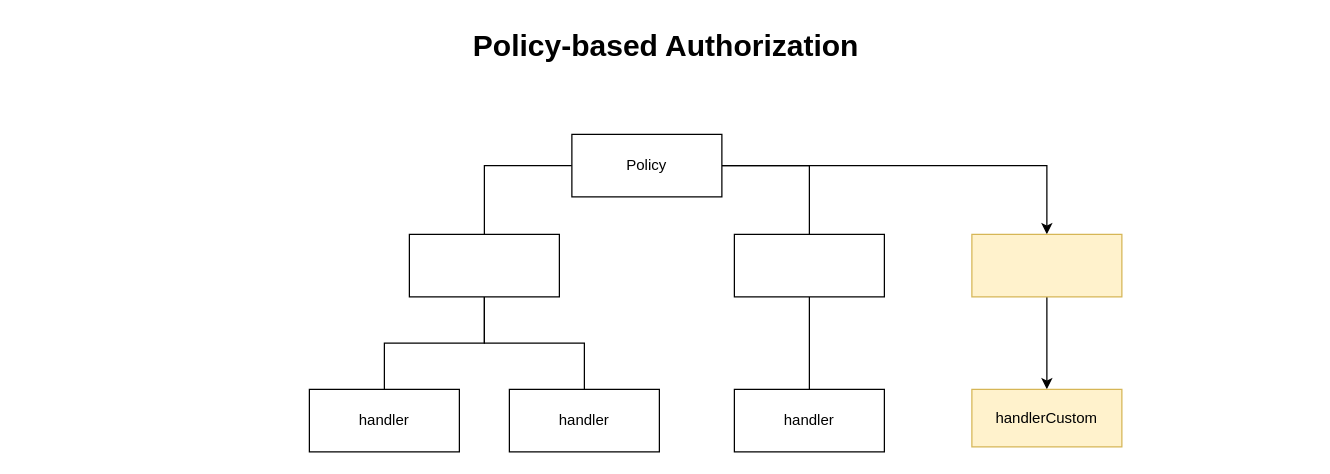
This 1330x474 diagram has some shape labels left out. Here are the shapes that lost their labels. From the top down, the centre of each, then its label:
the point at 483,265: Requirement (RequireClaim)
the point at 808,265: Requirement (RequireRole)
the point at 1046,265: RequirementCustom
